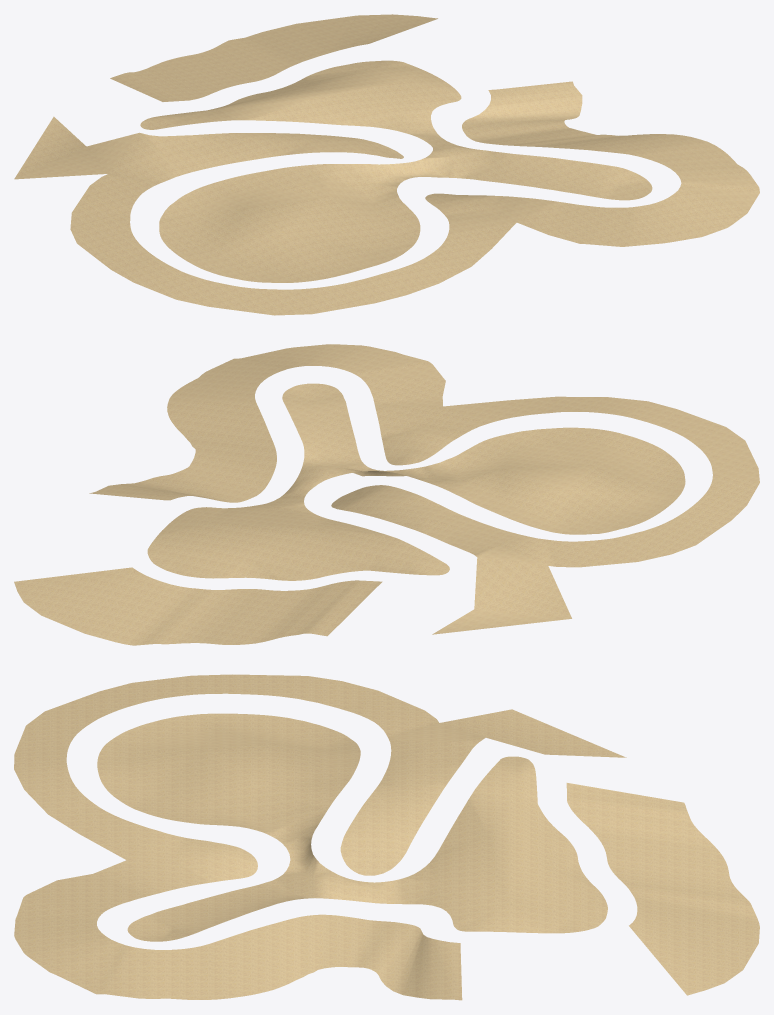
File: sides.obj
The picture shows the model from 3 angles, top to bottom: view 1: azimuth 30°, elevation 25°; view 2: azimuth 150°, elevation 25°; view 3: azimuth 270°, elevation 25°; orthographic projection. The views are drawn at different scales.
Visible parts, largest first — view 1: sand; view 2: sand; view 3: sand.
Boxes of the visible parts, <box> form: sand: <box>14,14,759,315</box>; sand: <box>14,344,759,645</box>; sand: <box>14,674,759,1000</box>.
Size of the model in its own units: 236 by 21.31 by 242.
